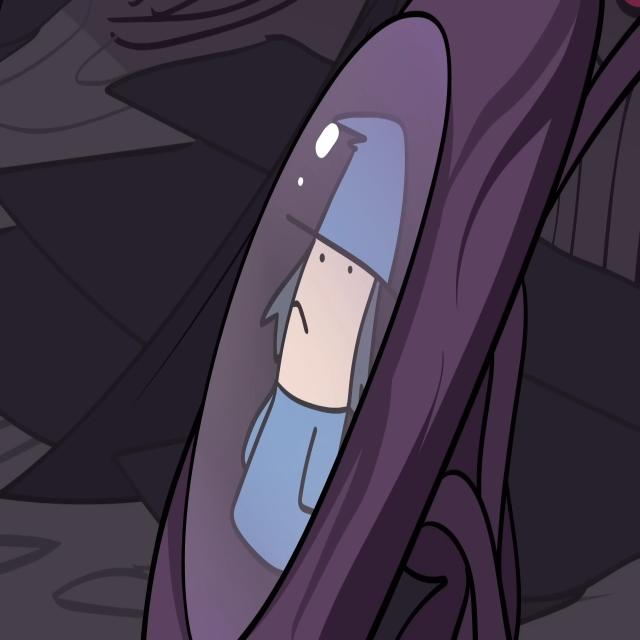Josh: (230, 110, 409, 578)
